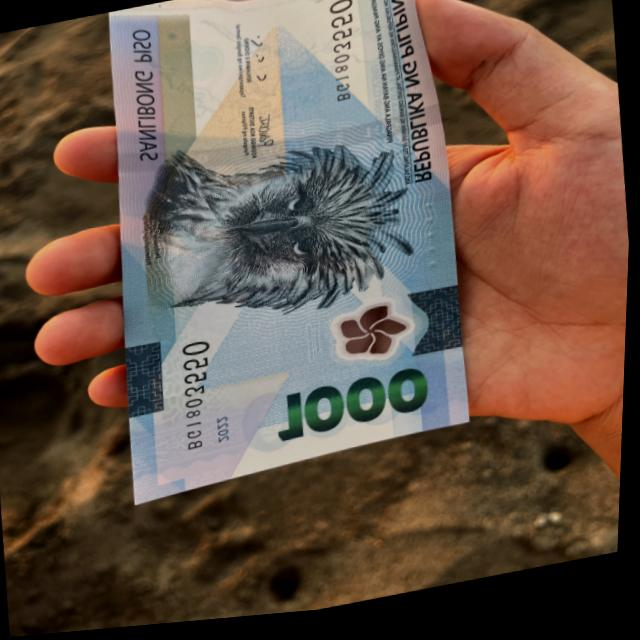eagle: (123, 112, 428, 358)
sampaguita: (318, 294, 426, 387)
